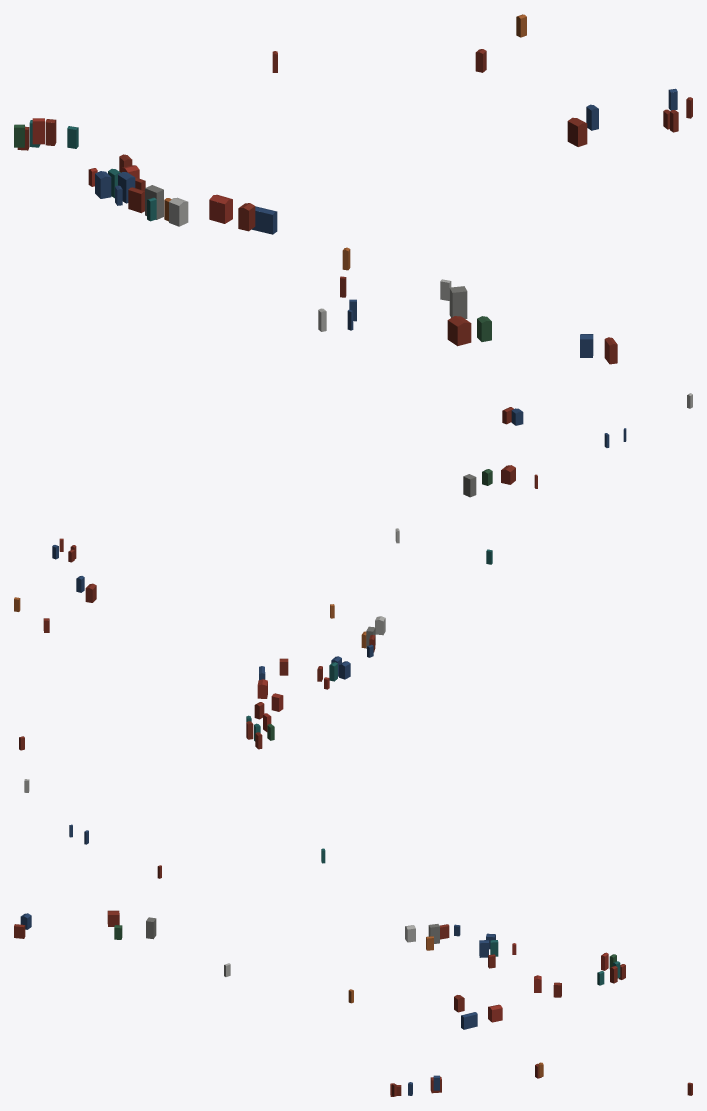
The model's file is near-15-27358-14860.b53e988c.glb.
3 views of the same model, one above another, from view 1: azimuth 30°, elevation 25°; view 2: azimuth 150°, elevation 25°; view 3: azimuth 270°, elevation 25° (orthographic). The views are drawn at different scales.
Size of the model in its own units: 630 by 243 by 890.
